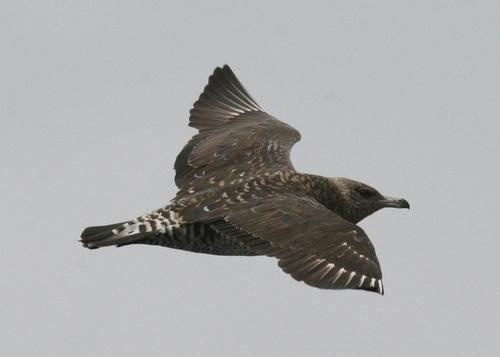bird: (76, 64, 412, 298)
